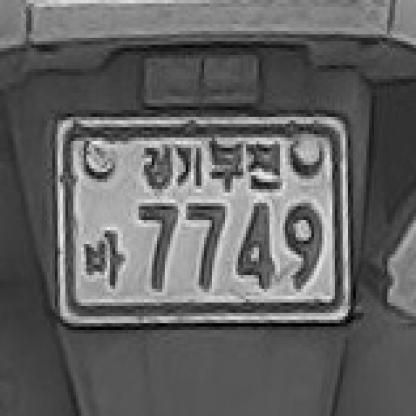bnum: (41, 106, 367, 336)
